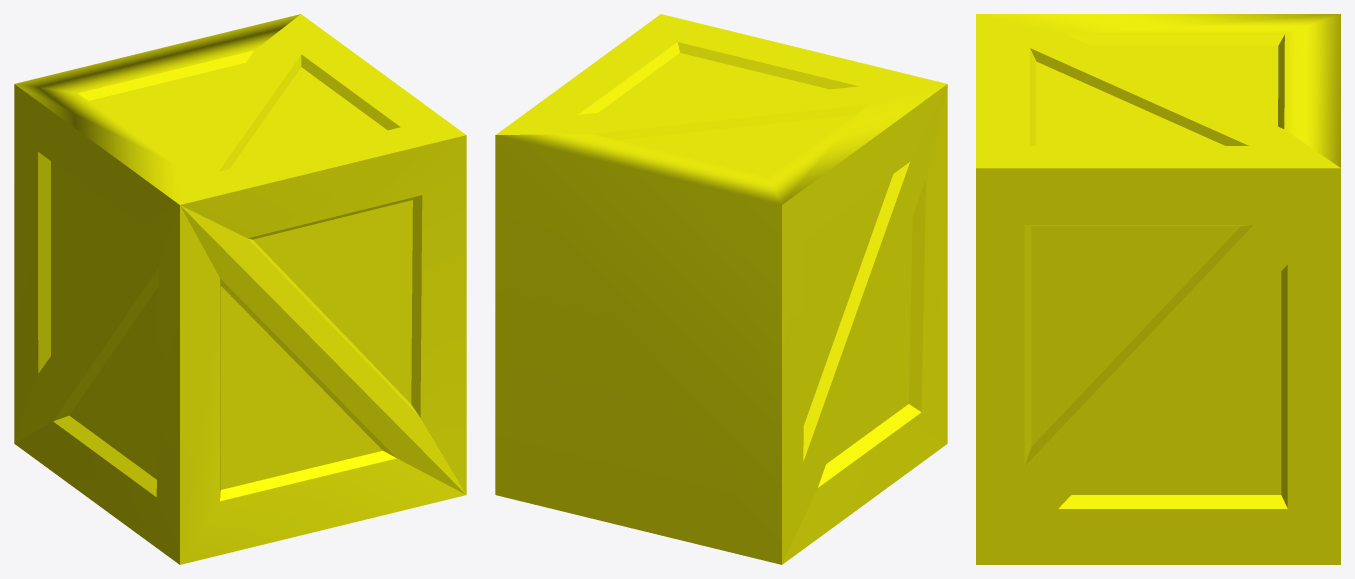
File: parking_woodenbox01.glb
The picture shows the model from 3 angles, left to right: view 1: azimuth 30°, elevation 25°; view 2: azimuth 150°, elevation 25°; view 3: azimuth 270°, elevation 25°; orthographic projection. The views are drawn at different scales.
Parts seen in each view (by area): view 1: parking_woodenbox01; view 2: parking_woodenbox01; view 3: parking_woodenbox01.
Part boxes in pixels (x1,y1,x2,y2): parking_woodenbox01: (14, 14, 466, 564); parking_woodenbox01: (495, 14, 947, 564); parking_woodenbox01: (976, 14, 1340, 564).
Size of the model in its own units: 0.8829 by 1.06 by 0.8829.
Materials: 1 (1 with a texture image).
